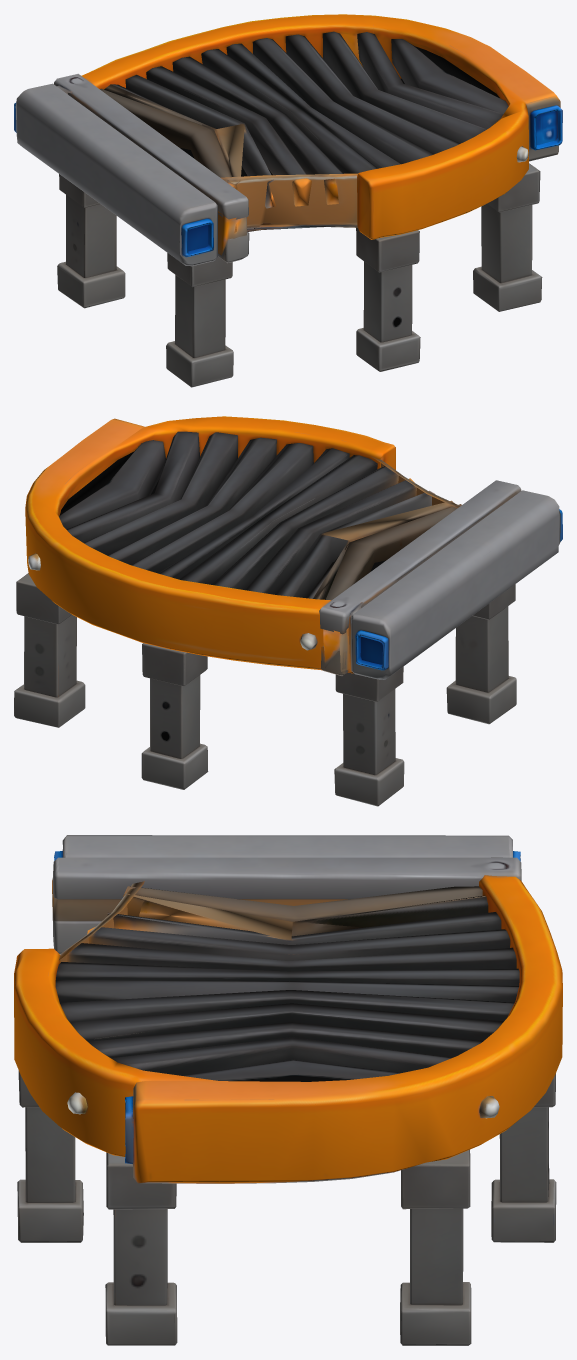
File: corner.glb
3 renders of one model, top to bottom at view 1: azimuth 30°, elevation 25°; view 2: azimuth 150°, elevation 25°; view 3: azimuth 270°, elevation 25°, orthographic. The views are drawn at different scales.
Visible parts, largest first — view 1: geometry_0; view 2: geometry_0; view 3: geometry_0.
Boxes of the visible parts, bbox=[...] form: geometry_0: bbox=[14, 14, 562, 387]; geometry_0: bbox=[14, 416, 562, 806]; geometry_0: bbox=[14, 835, 562, 1345].
Size of the model in its own units: 1 by 0.4605 by 0.8587.
1 material, 1 textured.
